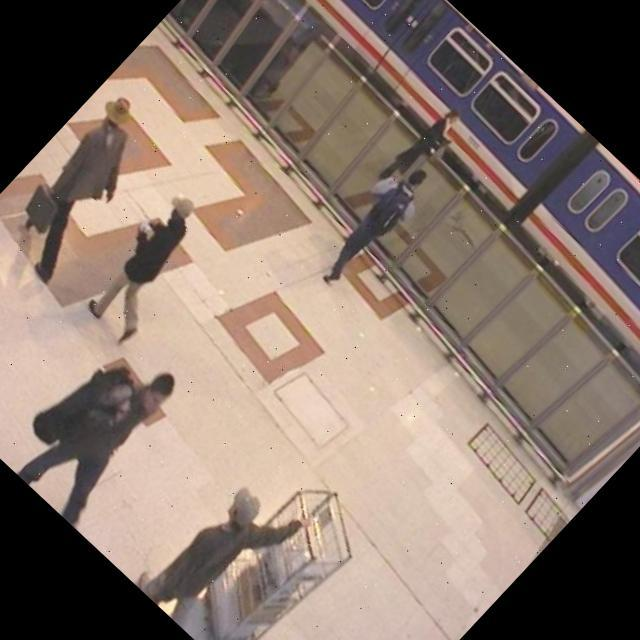person: (0, 320, 217, 544), (0, 76, 182, 287), (130, 450, 323, 640), (59, 178, 232, 355), (294, 151, 446, 307), (371, 94, 473, 200)
